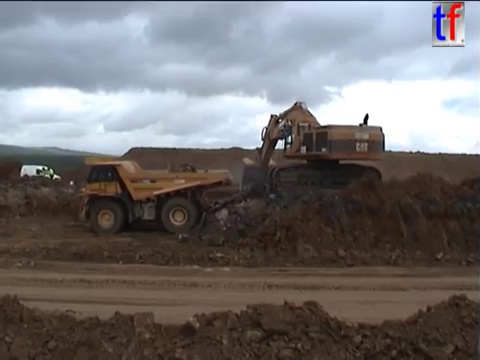excavator: (235, 99, 388, 194)
worker: (67, 154, 232, 235), (45, 163, 55, 183), (38, 164, 46, 181)
